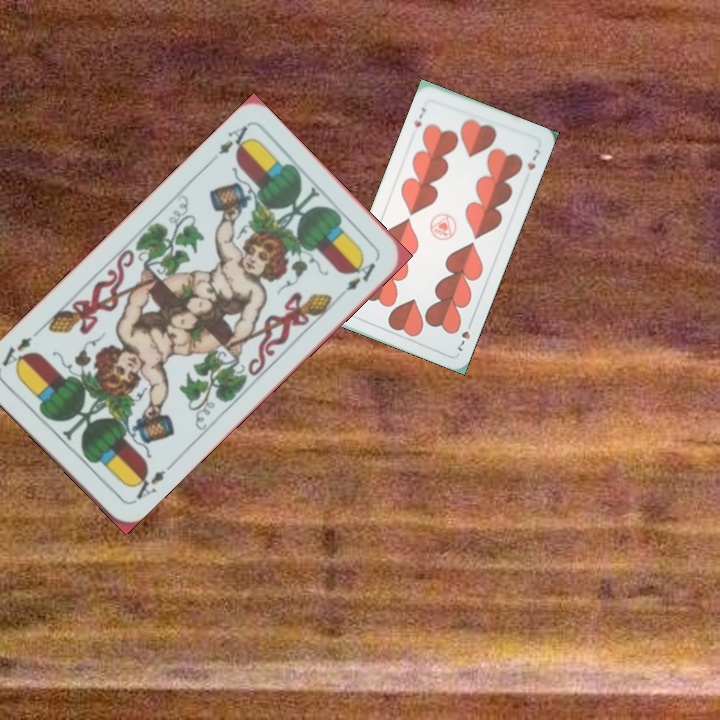EA: (126, 460, 176, 504), (214, 121, 255, 157)
H7: (453, 316, 475, 354), (410, 103, 428, 130)
